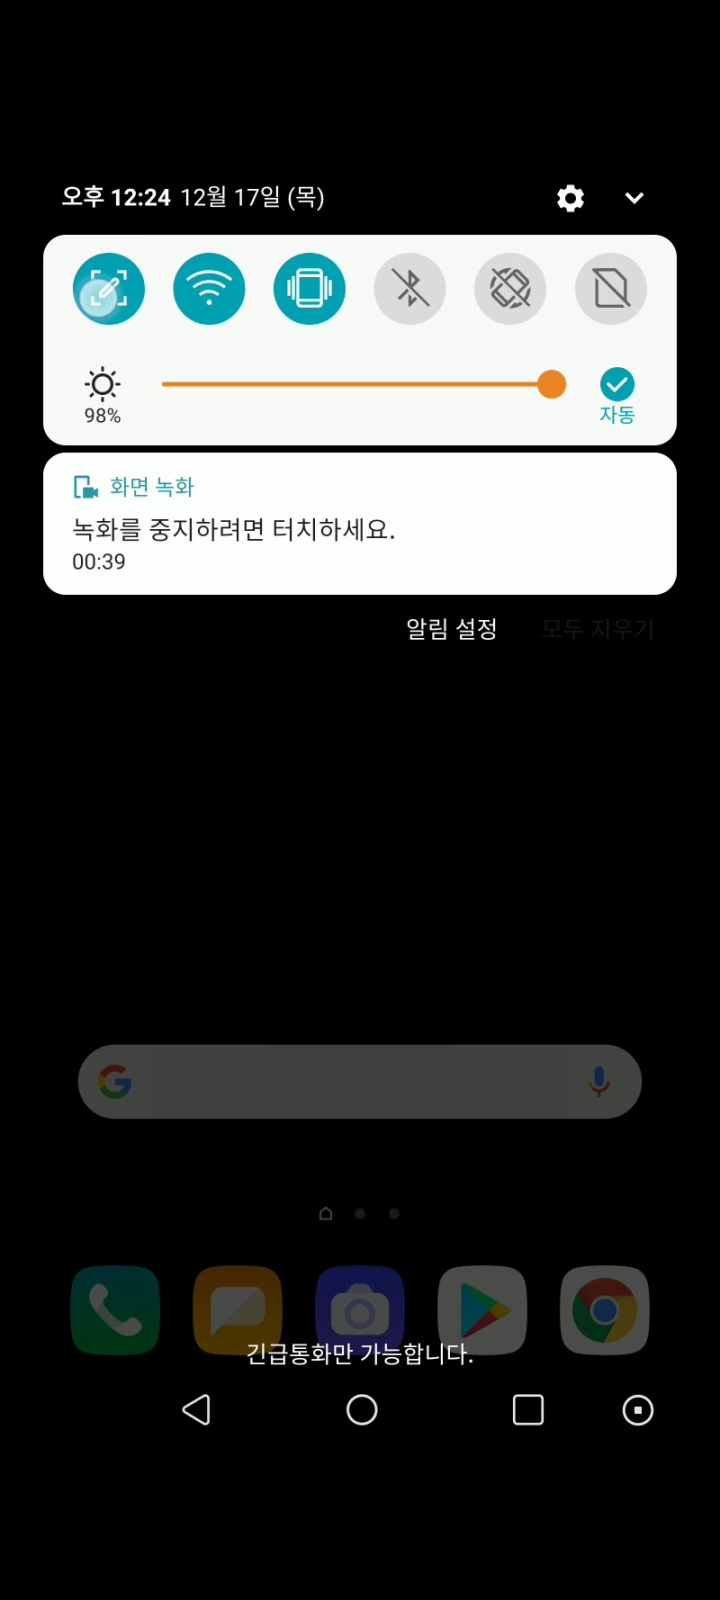Cursor: (76, 277, 121, 322)
